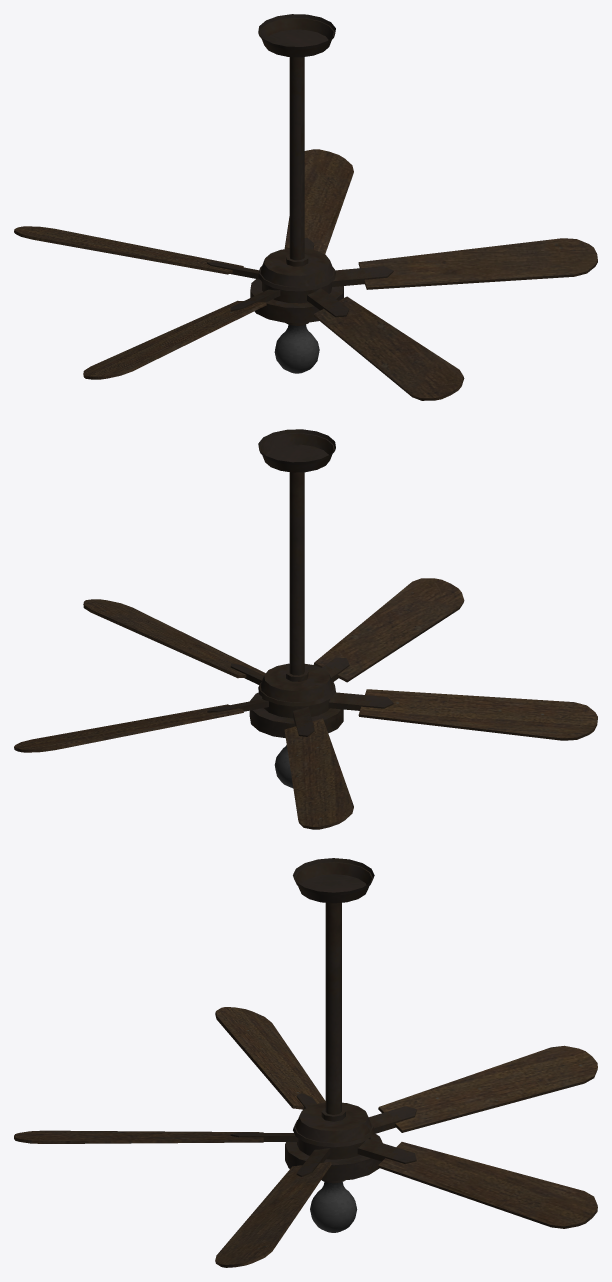
The model's file is ceiling_fan_mp_2_1_light_off.obj.
3 views of the same model, one above another, from view 1: azimuth 30°, elevation 25°; view 2: azimuth 150°, elevation 25°; view 3: azimuth 270°, elevation 25° (orthographic). The views are drawn at different scales.
Parts seen in each view (by area): view 1: ceiling_fan_mp_2_1_light_off_blades, ceiling_fan_mp_2_1_light_off; view 2: ceiling_fan_mp_2_1_light_off_blades, ceiling_fan_mp_2_1_light_off; view 3: ceiling_fan_mp_2_1_light_off_blades, ceiling_fan_mp_2_1_light_off.
Boxes of the visible parts, box(x1,y1,x2,y2) form: ceiling_fan_mp_2_1_light_off_blades: box(14, 149, 597, 400); ceiling_fan_mp_2_1_light_off: box(250, 14, 343, 373); ceiling_fan_mp_2_1_light_off_blades: box(14, 578, 597, 829); ceiling_fan_mp_2_1_light_off: box(249, 429, 343, 788); ceiling_fan_mp_2_1_light_off_blades: box(14, 1007, 597, 1267); ceiling_fan_mp_2_1_light_off: box(285, 858, 382, 1232).
Size of the model in its own units: 1.11 by 0.7128 by 1.06.
